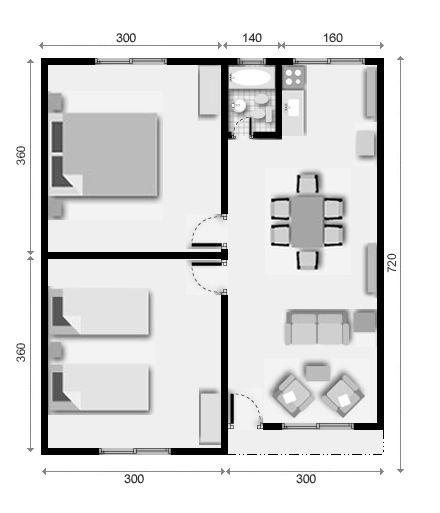door: (226, 380, 268, 432), (185, 203, 226, 246), (190, 256, 226, 298), (229, 108, 257, 142)
room: (223, 52, 393, 470), (41, 56, 228, 259), (41, 252, 225, 458), (222, 55, 282, 139)
wall: (35, 52, 57, 458), (373, 51, 391, 437), (38, 242, 227, 267), (212, 57, 235, 216), (216, 296, 234, 458), (167, 41, 238, 71), (269, 58, 287, 144), (35, 48, 95, 73), (172, 437, 231, 462), (31, 440, 100, 459), (252, 120, 285, 145), (259, 413, 285, 440), (354, 416, 389, 436), (264, 48, 294, 69), (363, 53, 388, 70)
window: (280, 409, 355, 450), (292, 47, 368, 75), (92, 50, 168, 76), (96, 439, 173, 464), (235, 47, 267, 70)
